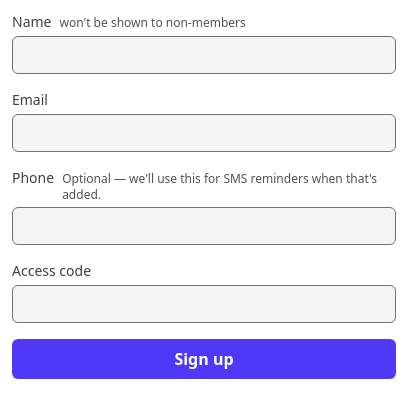
Test: SignupForm › when signup code is required › submits the form and shows a success message
Type "New Player" into the field labelled "Name won't be shown to non-members".
click(204, 55); type("New Player")  # box [12, 36, 396, 74]
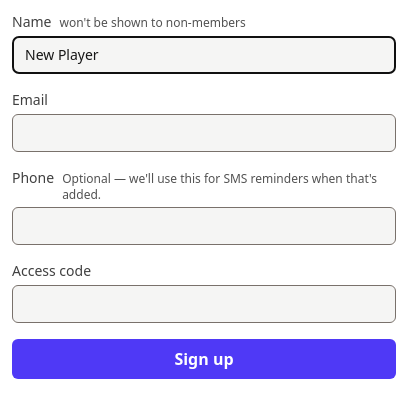
Type "new@example.com" into the field labelled "Email".
click(204, 133); type("new@example.com")  # box [12, 114, 396, 152]
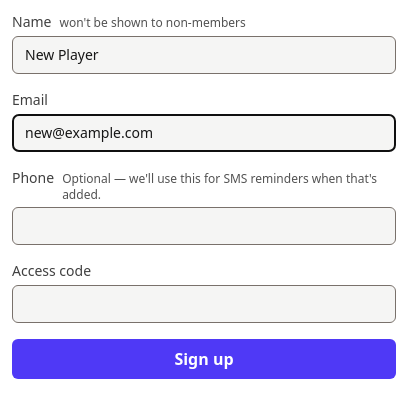
Type "the-code" into the field labelled "Access code".
click(204, 304); type("the-code")  # box [12, 285, 396, 323]
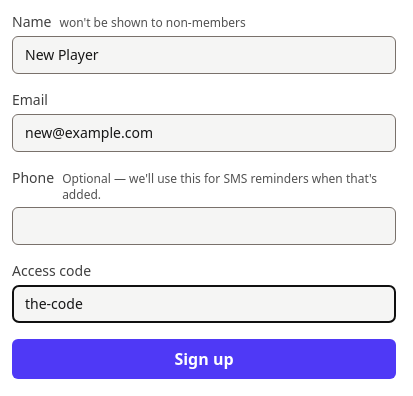
Click the button "Sign up".
click(204, 359)  # box [12, 339, 396, 379]
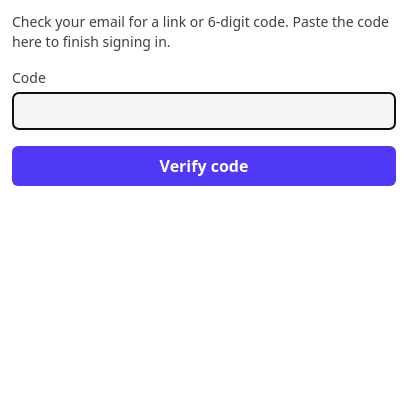
Expected: the text "Check your email" is shown, [12, 12, 389, 51]
